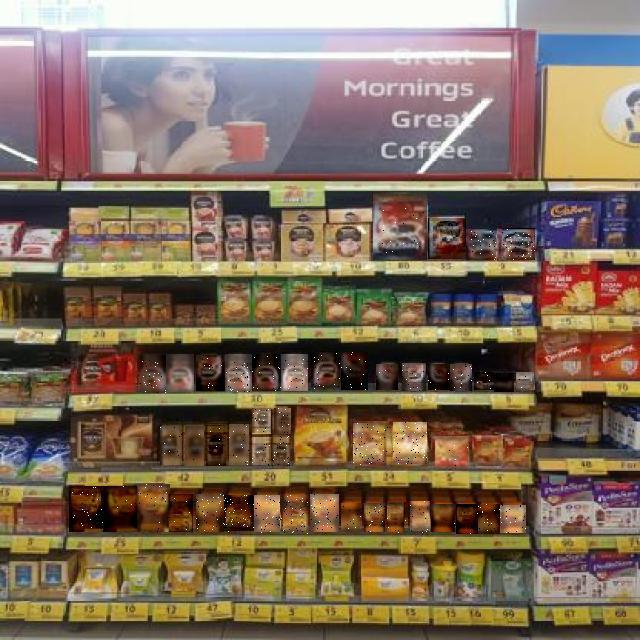Coffee: (373, 195, 427, 261), (136, 485, 170, 533), (103, 486, 137, 532), (69, 486, 103, 532), (428, 218, 466, 259), (354, 423, 390, 466), (393, 422, 427, 464), (280, 494, 309, 534), (224, 496, 254, 534), (252, 354, 282, 391), (310, 494, 339, 532), (311, 354, 340, 392), (196, 355, 226, 391), (196, 494, 224, 532), (166, 354, 194, 392), (502, 228, 535, 260), (341, 353, 368, 391), (225, 354, 252, 392), (281, 354, 308, 391), (435, 436, 468, 466), (170, 494, 196, 532), (255, 496, 281, 534), (140, 355, 166, 393), (466, 231, 496, 260), (160, 426, 182, 465), (229, 424, 249, 465), (206, 425, 226, 466), (185, 426, 204, 466), (500, 505, 526, 533), (431, 505, 455, 533), (402, 363, 426, 391), (478, 504, 500, 534), (456, 504, 478, 534), (410, 502, 430, 534), (388, 502, 408, 533), (364, 503, 385, 532), (450, 364, 472, 391), (342, 503, 362, 532), (428, 364, 450, 390), (376, 364, 398, 390), (272, 437, 290, 467), (252, 437, 271, 465), (252, 409, 271, 435), (274, 408, 291, 434), (495, 373, 515, 392), (474, 373, 494, 391), (516, 373, 535, 391)
